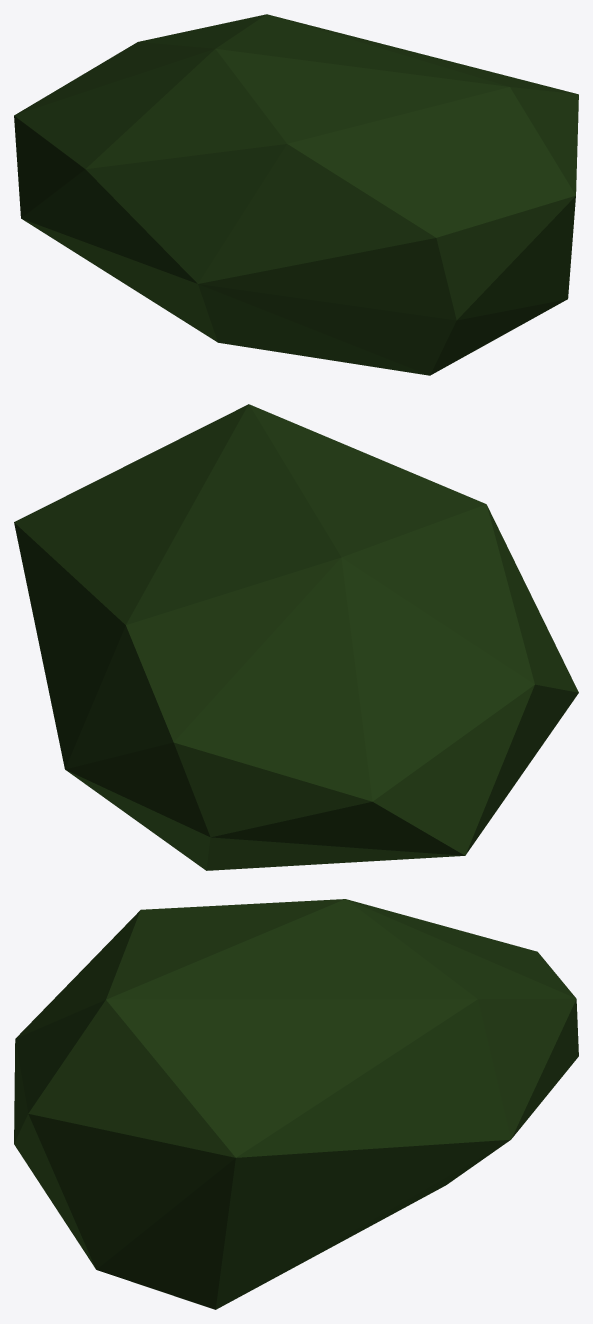
Rendered from SM_bush_02.fbx.
The picture shows the model from 3 angles, top to bottom: view 1: azimuth 30°, elevation 25°; view 2: azimuth 150°, elevation 25°; view 3: azimuth 270°, elevation 25°; orthographic projection. The views are drawn at different scales.
Visible parts, largest first — view 1: Object122; view 2: Object122; view 3: Object122.
Boxes of the visible parts, x1=… form: Object122: x1=14, y1=14, x2=578, y2=375; Object122: x1=14, y1=404, x2=578, y2=870; Object122: x1=14, y1=899, x2=578, y2=1309.
Bounding box in the file's own units: 76.55 × 45.15 × 74.81.
